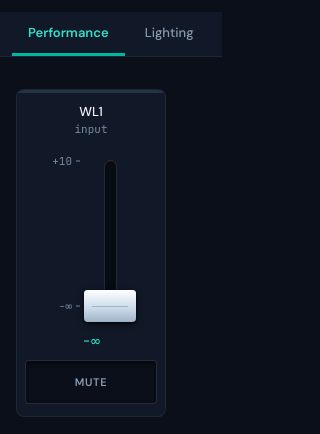
Test: PagesView — page tabs (§21.9 'Layout') › renders the selected page's own items
Check: the element with test id "page-mixer-10" is shown, box [16,89,166,417]
Click the tab "Lighting" at x=169, y=34, box [129,12,210,56]
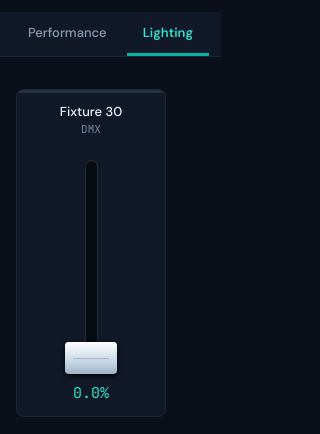
Check: the slider named "Fixture 30 fader" is shown, box [65,145,117,374]
Check: the element with test id "page-mixer-10" is gone
